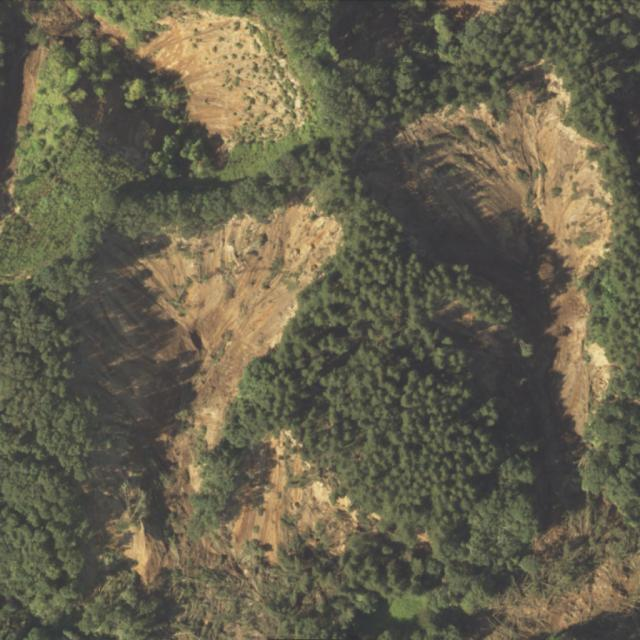landslide: (70, 199, 361, 632), (360, 72, 612, 435), (128, 8, 309, 147), (492, 503, 640, 640), (0, 10, 53, 190)
